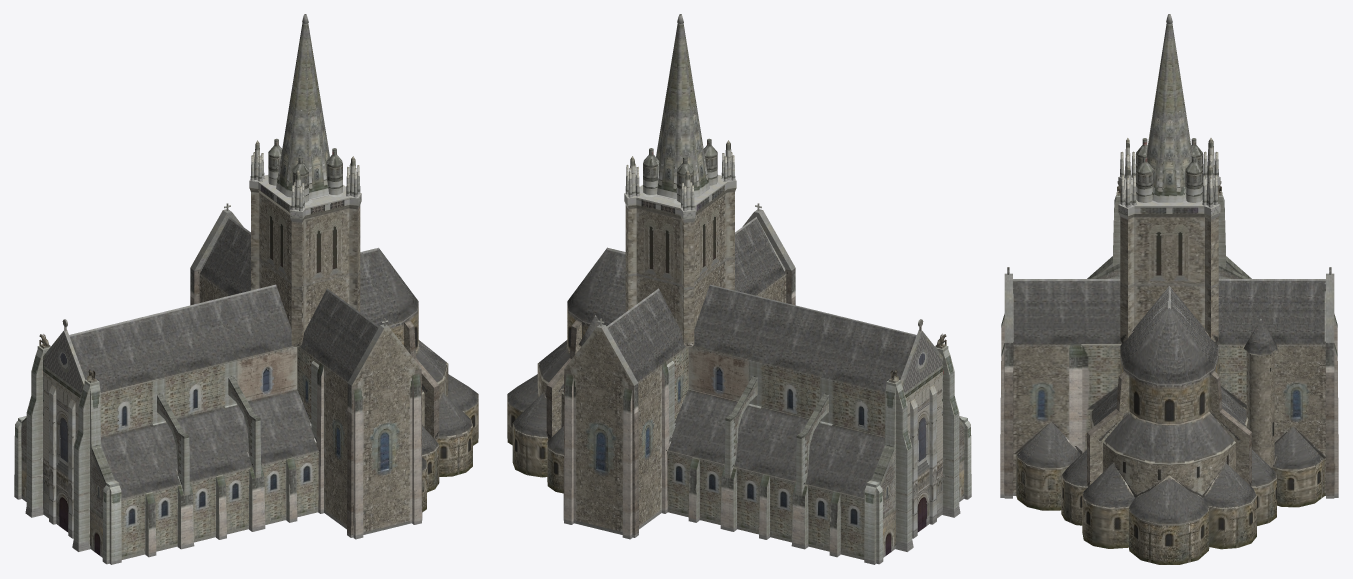
Rendered from LOD02_basilica.FBX.
3 views of the same model, side by side, from view 1: azimuth 30°, elevation 25°; view 2: azimuth 150°, elevation 25°; view 3: azimuth 270°, elevation 25° (orthographic). The views are drawn at different scales.
Parts seen in each view (by area): view 1: LOD02_basilica; view 2: LOD02_basilica; view 3: LOD02_basilica.
Part boxes in pixels (x1,y1,x2,y2): LOD02_basilica: (14, 14, 478, 564); LOD02_basilica: (507, 14, 971, 564); LOD02_basilica: (1000, 14, 1338, 564).
Bounding box in the file's own units: 53.14 × 54.96 × 36.15.
